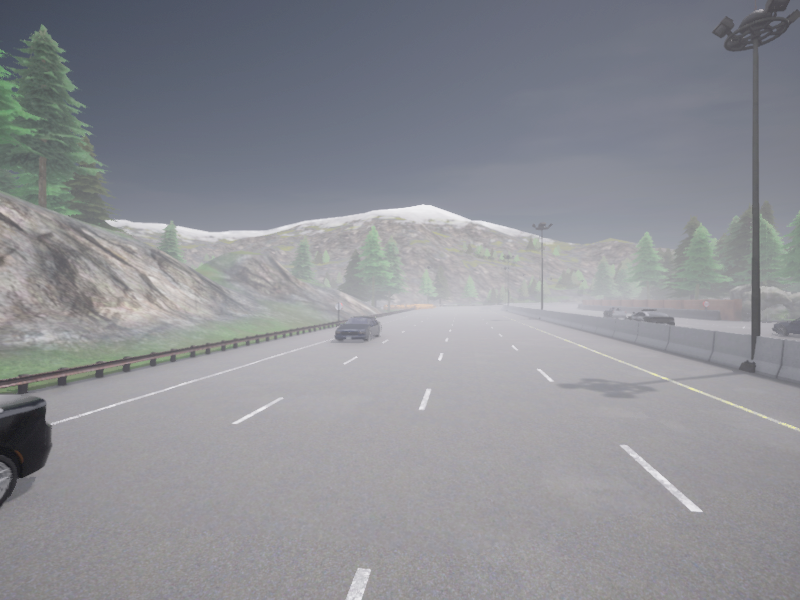vehicle: (0, 394, 52, 506), (335, 316, 381, 341), (627, 309, 674, 325), (772, 318, 799, 335), (603, 307, 626, 319)
